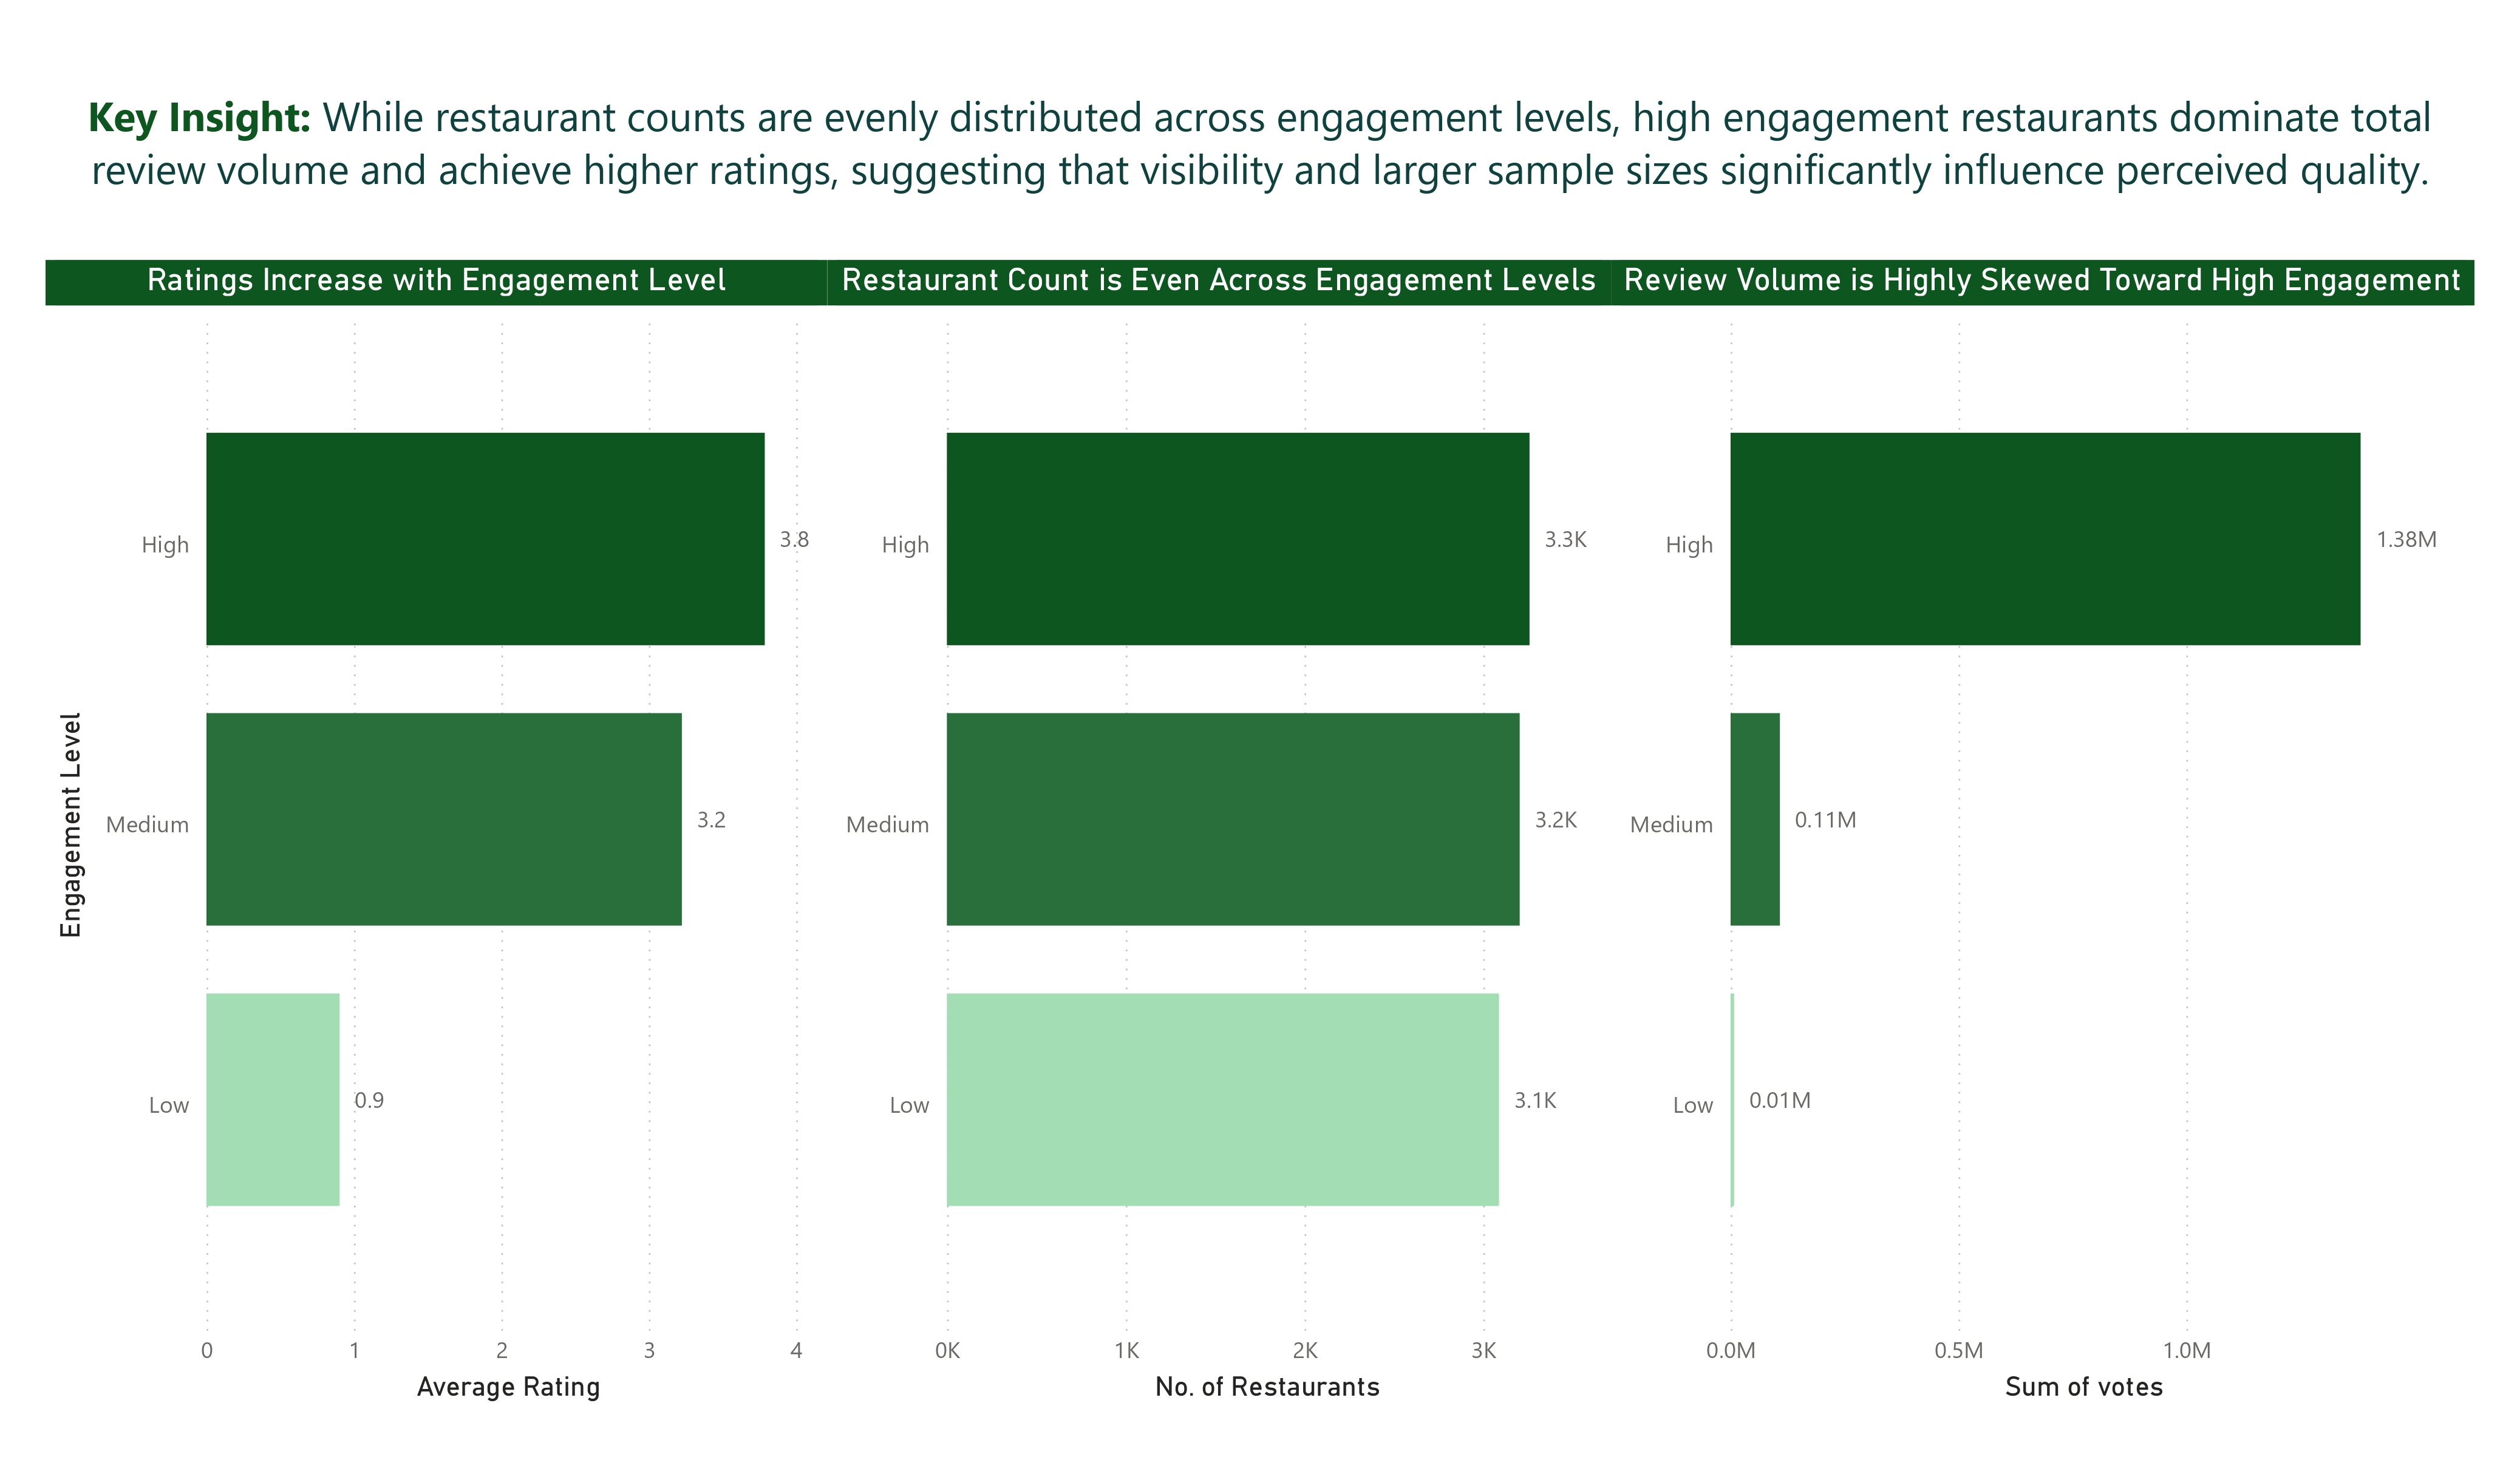

The page's visual inventory and layout, read from the dashboard file:
{"tool":"powerbi","page":{"name":"Engagement & Rating Behavior","canvas":[1280,720],"ordinal":2},"visuals":[{"type":"barChart","title":"Ratings Increase with Engagement Level","fields":{"Y":["Avg(public zomato_analytics.aggregate_rating)"],"Category":["public zomato_analytics.engagement_level"]},"box":[0,113.2,411.8,607.1],"z":0},{"type":"barChart","title":"Restaurant Count is Even Across Engagement Levels","fields":{"Category":["public zomato_analytics.engagement_level"],"Y":["CountNonNull(public zomato_analytics.restaurant_id)"]},"box":[411.8,113.2,413,607.1],"z":1000},{"type":"clusteredBarChart","title":"Review Volume is Highly Skewed Toward High Engagement","fields":{"Category":["public zomato_analytics.engagement_level"],"Y":["Sum(public zomato_analytics.votes)"]},"box":[824.7,113.2,455.3,607.1],"z":2000},{"type":"textbox","box":[0,0,1280,113.2],"z":3000}]}

Visuals, with their boxes on the page's 1280x720 design canvas (x1, y1, x2, y2). These are canvas units, not pixel positions in the 2520x1457 screenshot, which may show the page scaled, cropped or inside an application window:
"Ratings Increase with Engagement Level" barChart: select_region(0, 113, 412, 720)
"Restaurant Count is Even Across Engagement Levels" barChart: select_region(412, 113, 825, 720)
"Review Volume is Highly Skewed Toward High Engagement" clusteredBarChart: select_region(825, 113, 1280, 720)
textbox: select_region(0, 0, 1280, 113)
